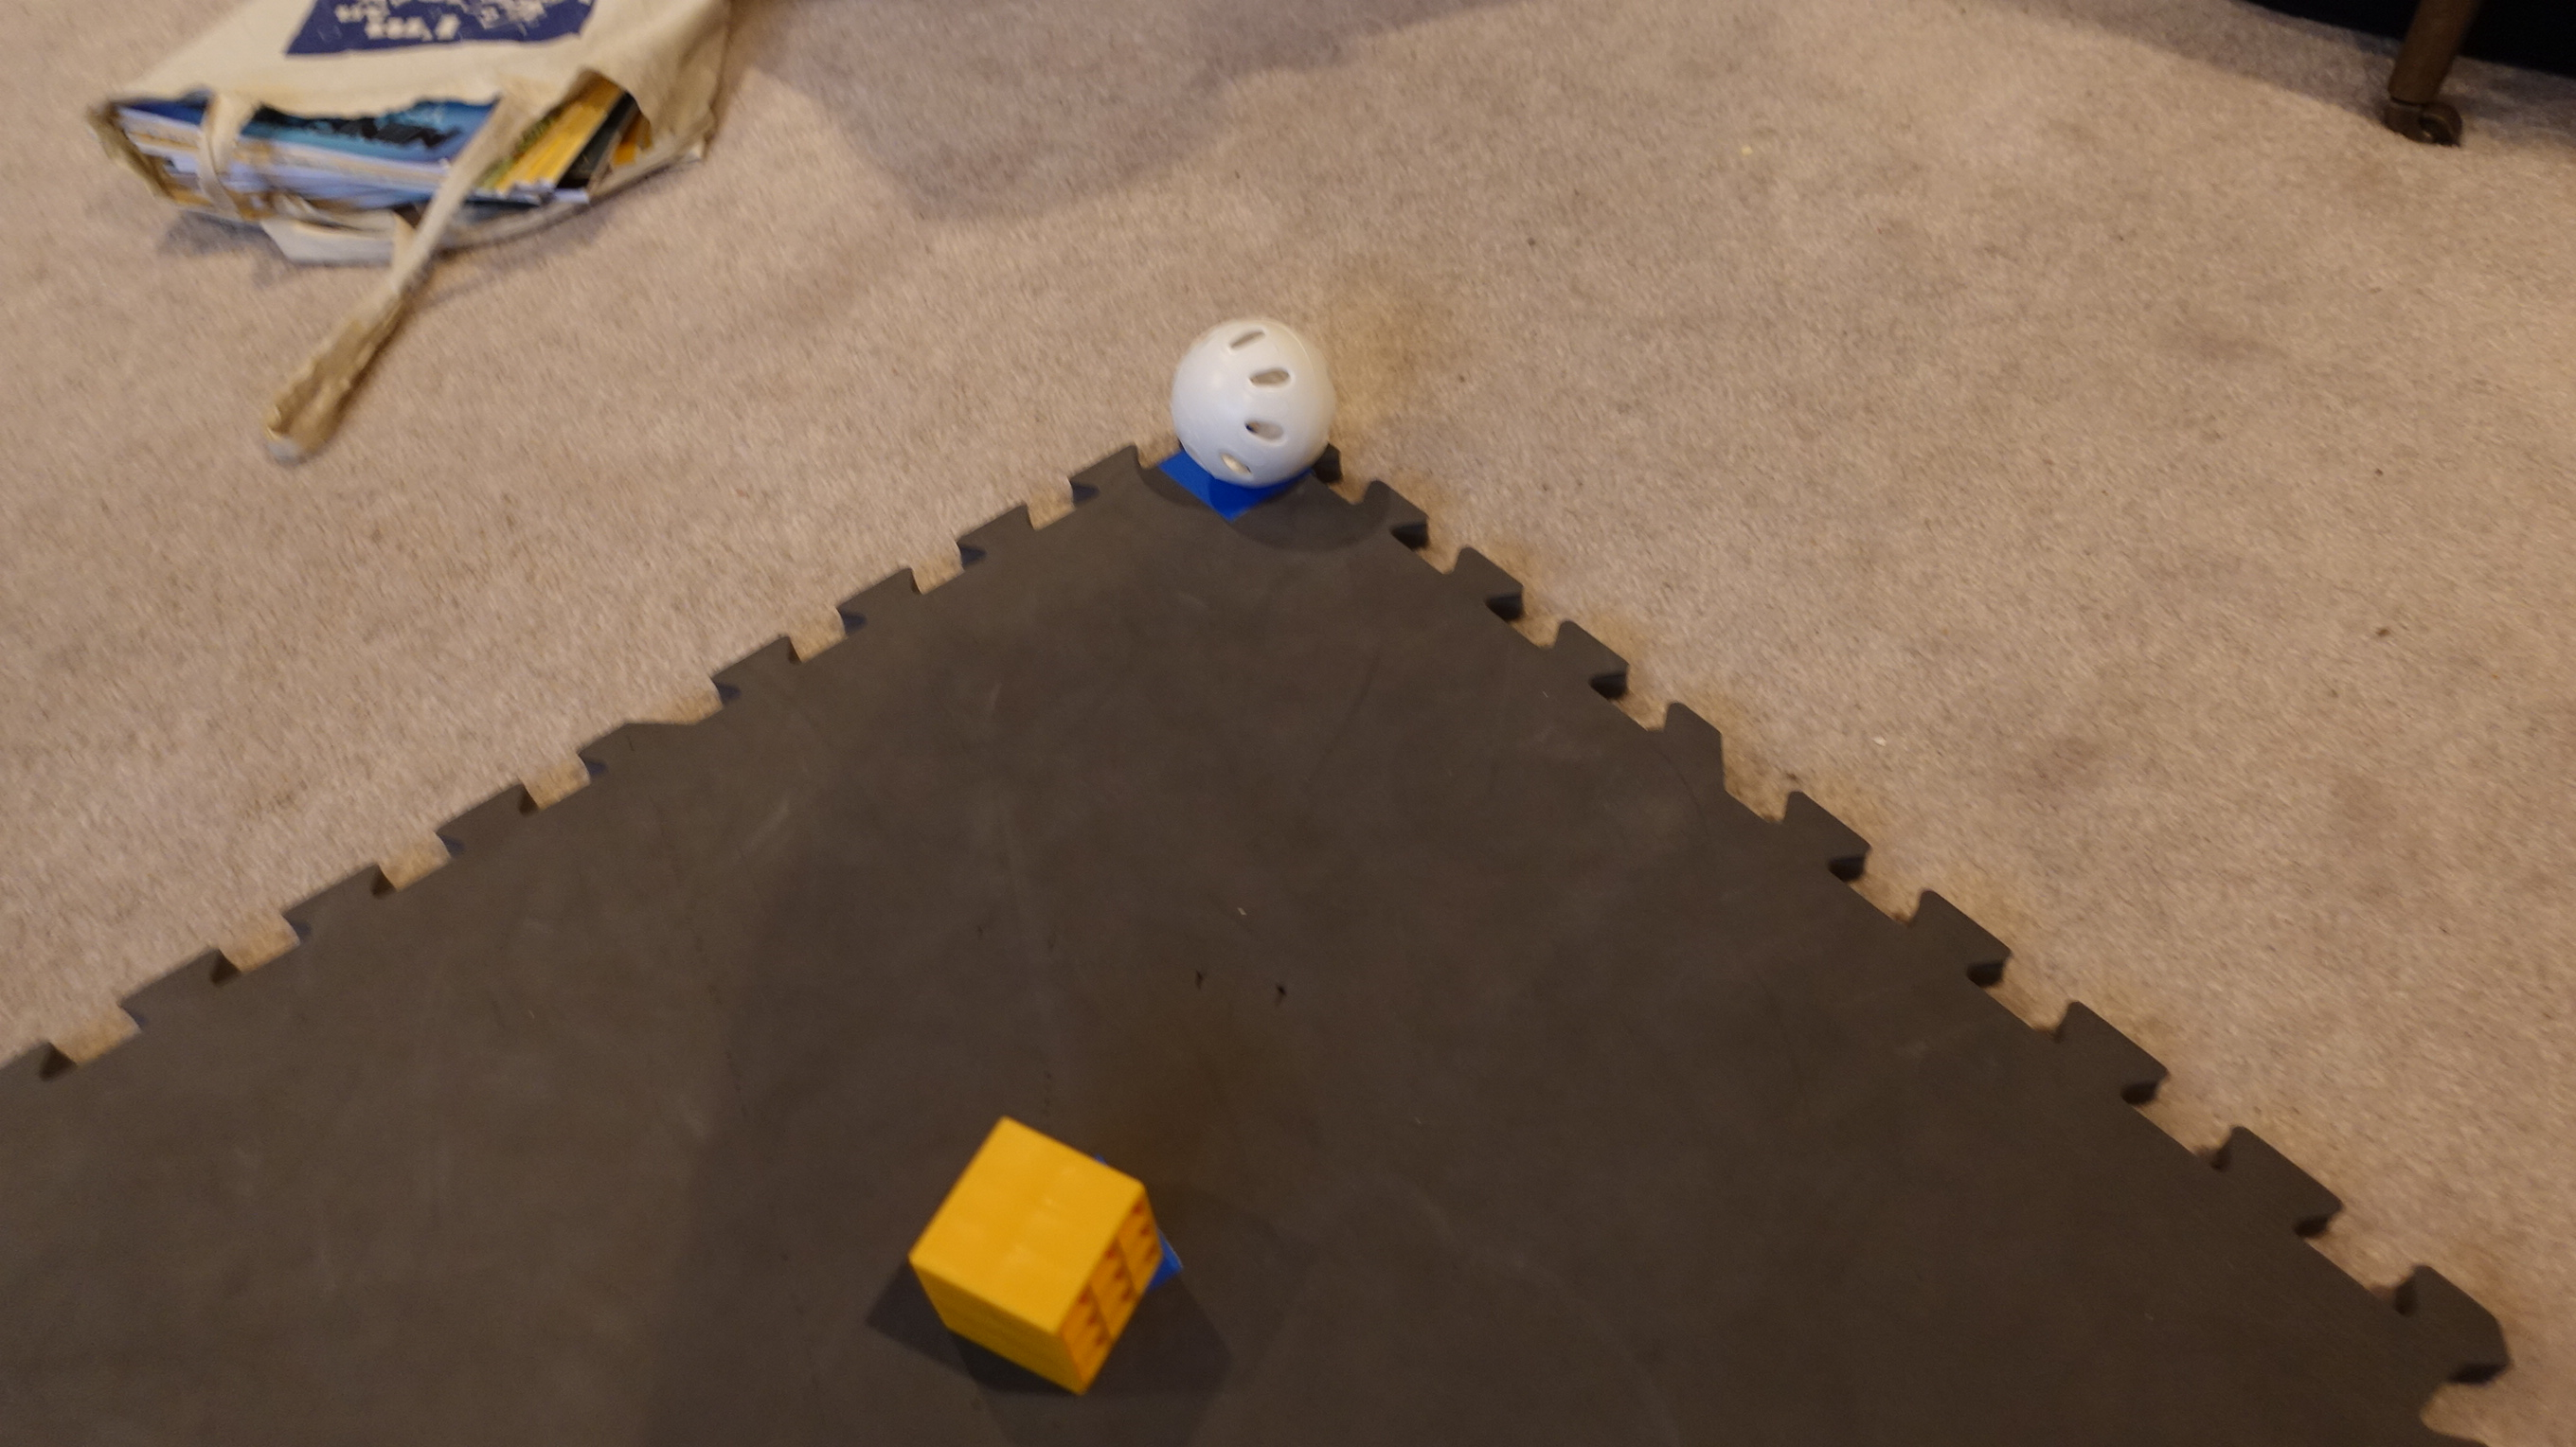gold: (897, 1109, 1173, 1389)
silver: (1162, 310, 1343, 490)
